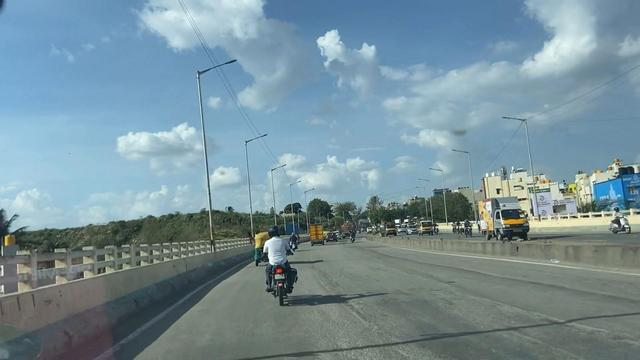HMV: (470, 192, 536, 243)
